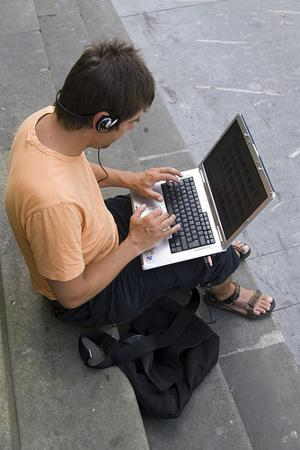person: (5, 40, 277, 322)
